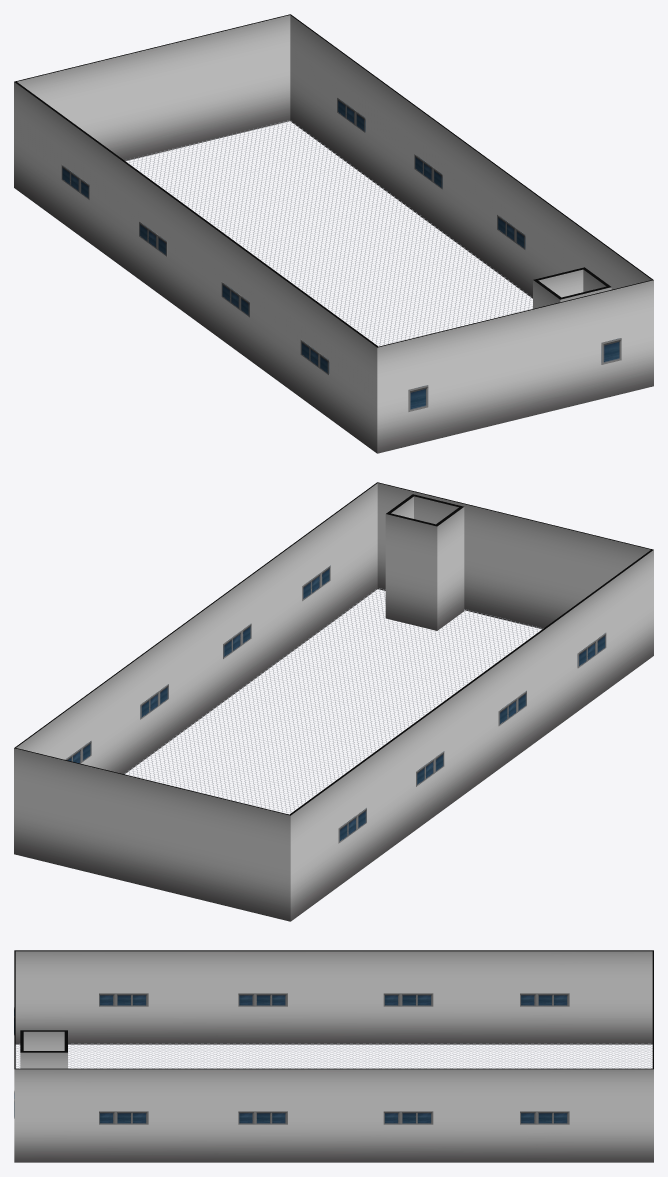
File: soulbrain_T6-1-5F.glb
The picture shows the model from 3 angles, top to bottom: view 1: azimuth 30°, elevation 25°; view 2: azimuth 150°, elevation 25°; view 3: azimuth 270°, elevation 25°; orthographic projection. The views are drawn at different scales.
Visible parts, largest first — view 1: T6-1-5F; view 2: T6-1-5F; view 3: T6-1-5F.
Boxes of the visible parts, x1,y1,x2,y2 form: T6-1-5F: (14,14,653,453); T6-1-5F: (14,482,653,921); T6-1-5F: (14,950,653,1162).
Bounding box in the file's own units: 17.16 × 6.28 × 38.97.
4 materials, 3 textured.
